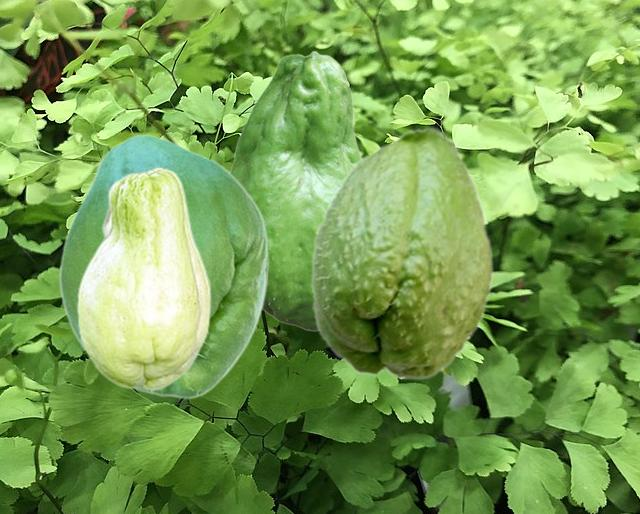sayote: (58, 134, 268, 399), (310, 125, 494, 380), (229, 50, 362, 330), (76, 166, 210, 390)
